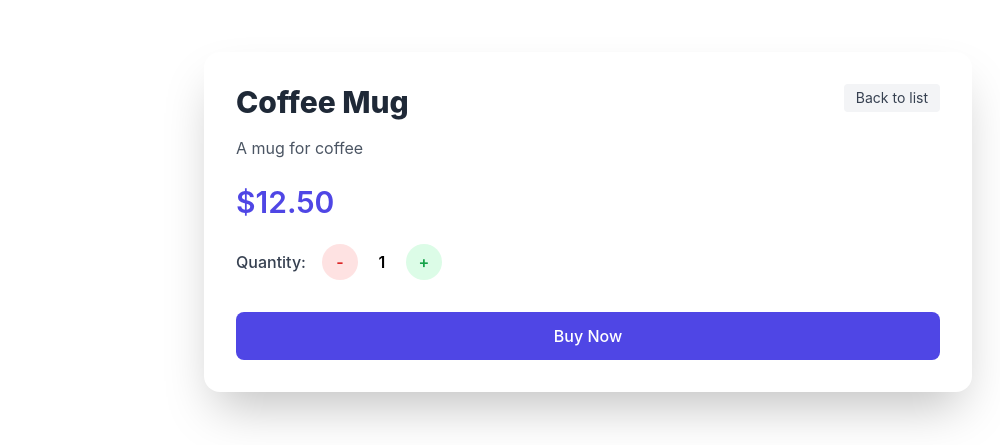
ProductDetail (integration) › enforces minimum quantity of 1 and navigates with state on Buy Now when logged in
The width and height of the screenshot is (1000, 445).
Expected: the heading "Coffee Mug" is shown, [236,84,409,120]
Expected: the element named "Increase quantity" is shown, [322,244,442,280]
What coordinates should you click on to do the following:
click the button named "Decrease quantity"
I would click on:
 (340, 262)
Its box is [322,244,358,280].
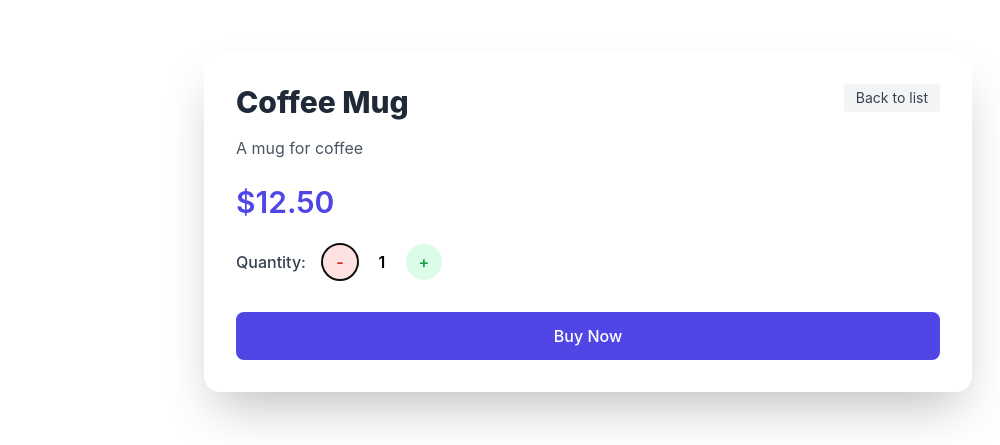
Expected: the text "1" is shown, [378,252,385,272]
What coordinates should you click on to do the following:
click the button named "Increase quantity"
I would click on:
 (424, 262)
Its box is [406,244,442,280].
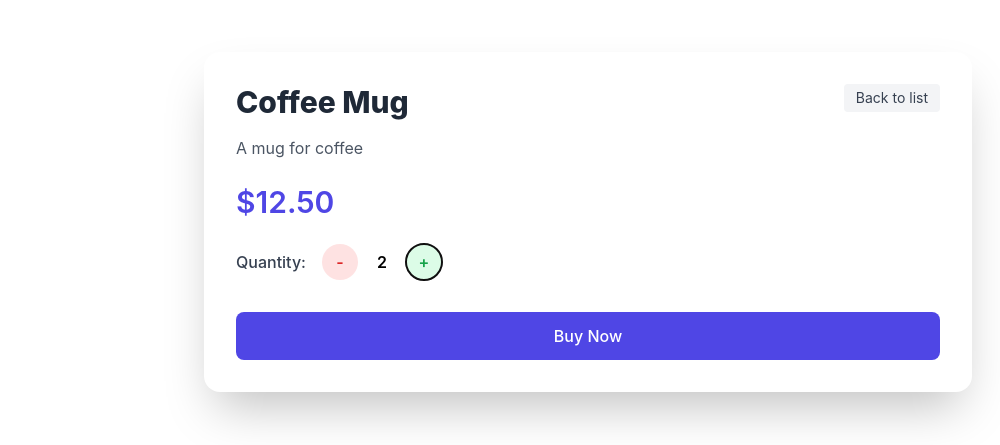
What coordinates should you click on to do the following:
click the button named "Increase quantity"
I would click on:
 (424, 262)
Its box is [406,244,442,280].
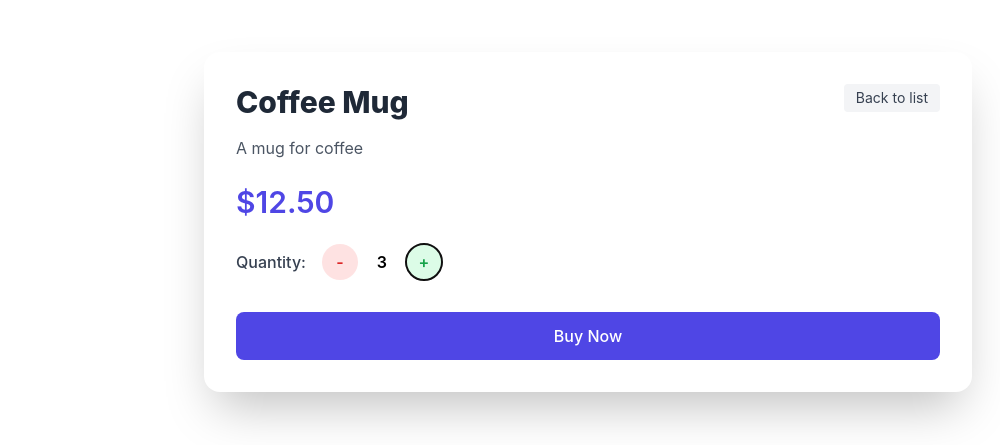
Expected: the text "3" is shown, [377,252,387,272]
What coordinates should you click on to do the following:
click the button "Buy Now"
I would click on:
 (588, 336)
Its box is [236,312,940,360].
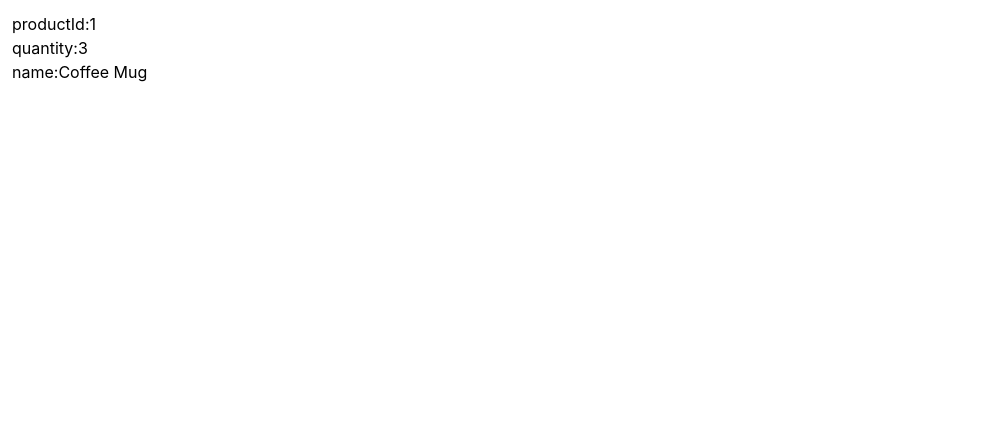
Expected: the text "productId:1" is shown, [12,14,96,34]
Expected: the text "quantity:3" is shown, [12,38,88,58]
Expected: the text "name:Coffee Mug" is shown, [12,62,147,82]
